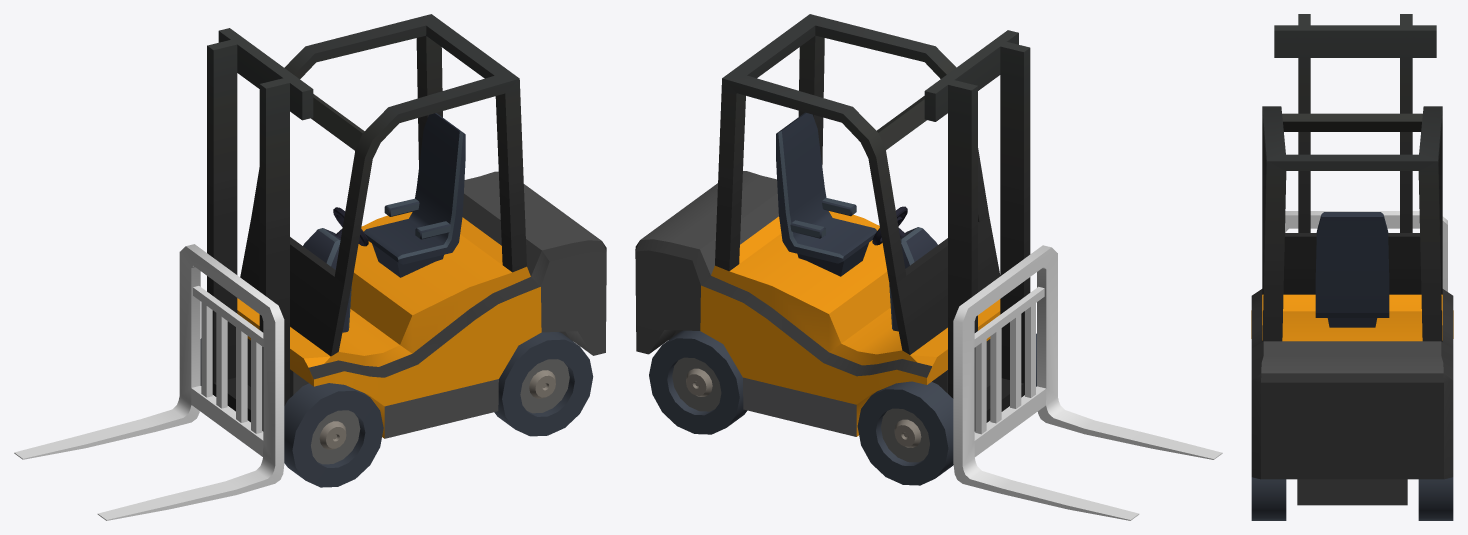
The model's file is ForkLift.fbx.
The picture shows the model from 3 angles, left to right: view 1: azimuth 30°, elevation 25°; view 2: azimuth 150°, elevation 25°; view 3: azimuth 270°, elevation 25°; orthographic projection. The views are drawn at different scales.
Visible parts, largest first — view 1: ForkLift, Forks, FWheel_LF, FWheel_LB; view 2: ForkLift, Forks, FWheel_RF, FWheel_BR; view 3: ForkLift, FWheel_LB, FWheel_BR, Forks.
Part boxes in pixels (left/top/right/bottom): ForkLift: left=207, top=14, right=606, bottom=438; Forks: left=14, top=244, right=284, bottom=520; FWheel_LF: left=284, top=383, right=383, bottom=487; FWheel_LB: left=494, top=332, right=593, bottom=436; ForkLift: left=635, top=14, right=1030, bottom=436; Forks: left=953, top=245, right=1222, bottom=520; FWheel_RF: left=857, top=381, right=953, bottom=485; FWheel_BR: left=649, top=330, right=747, bottom=434; ForkLift: left=1251, top=14, right=1453, bottom=505; FWheel_LB: left=1251, top=477, right=1286, bottom=520; FWheel_BR: left=1418, top=477, right=1453, bottom=520; Forks: left=1285, top=211, right=1447, bottom=291.
Size of the model in its own units: 441 by 332 by 160.
